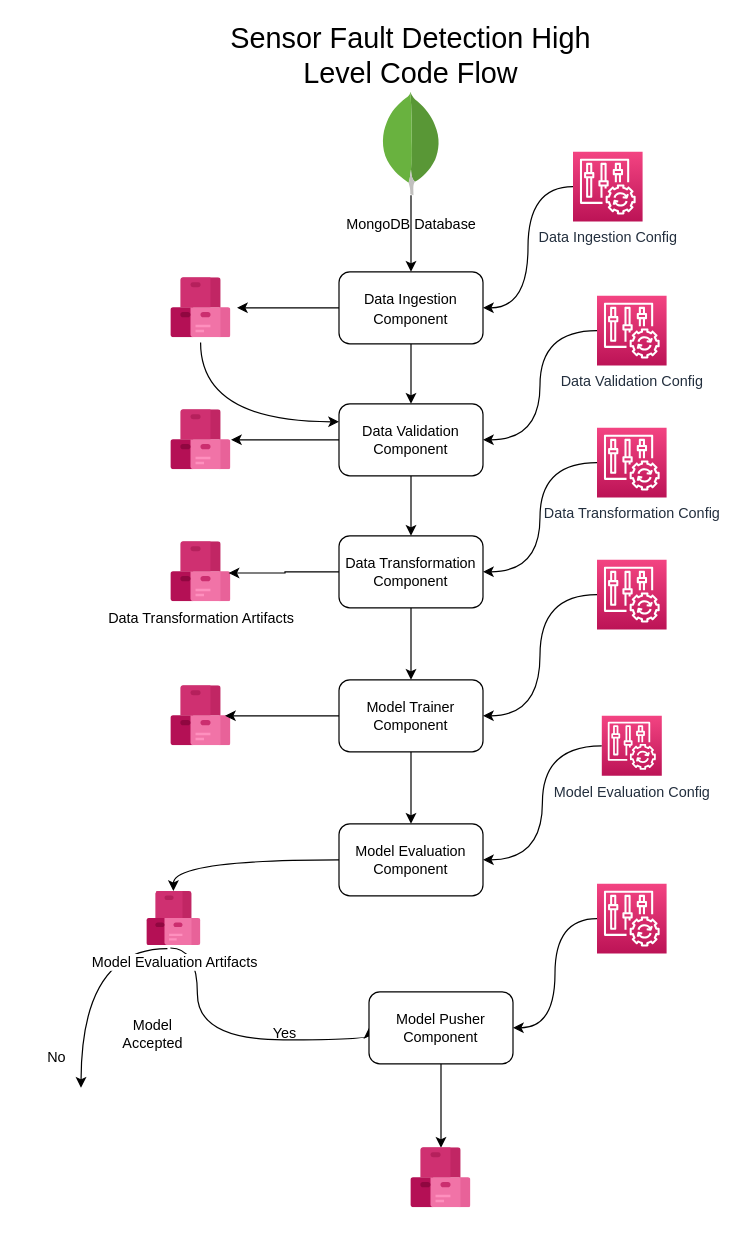
This 740x1253 diagram has some shape labels left out. The shapes that lost their labels are listed below. From the top down, each one's centre as x and y in pixels, then its label:
At (200,307): "Data Ingestion Artifacts".
At (200,439): "Data Validation Artifacts".
At (631,594): "Model Trainer Config".
At (200,715): "Model Trainer Artifacts".
At (631,918): "Model Pusher Config".
At (440,1177): "Model Pusher Artifacts".
